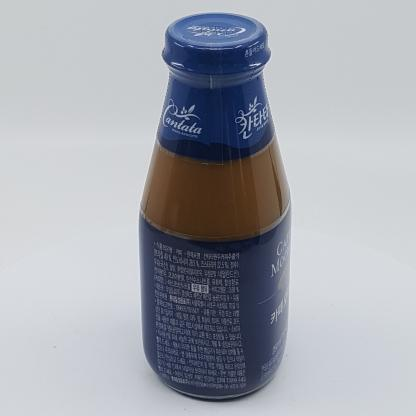------------250ML: (138, 12, 292, 400)
